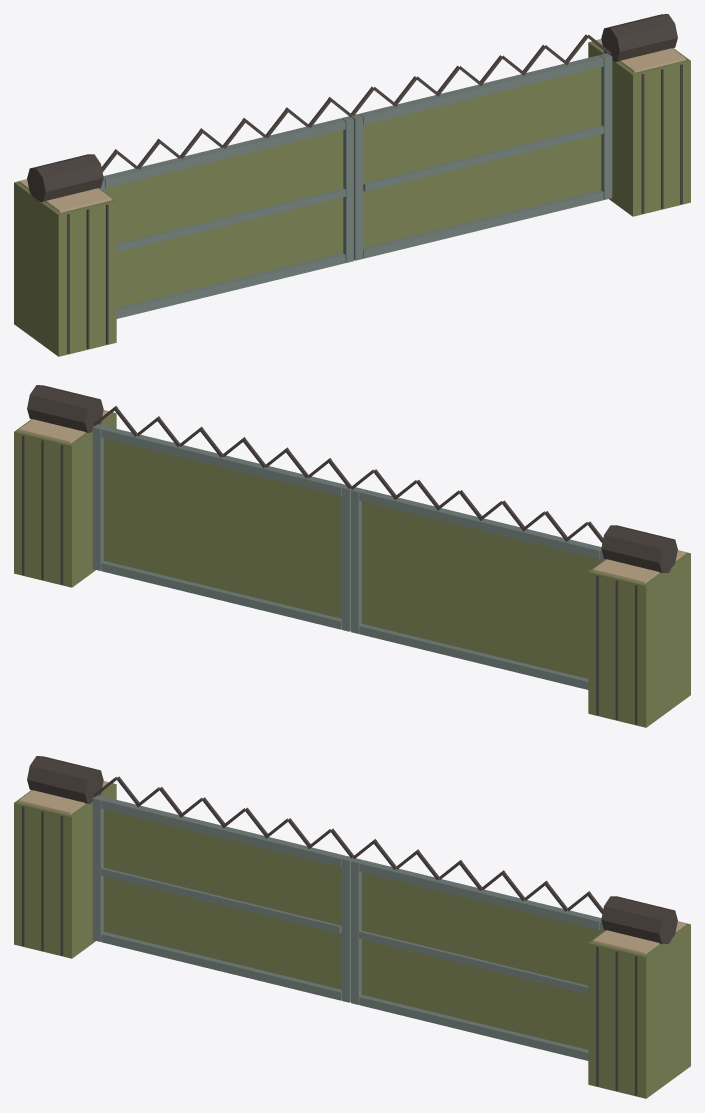
File: SM_PuertaVehiculos_v3_LOD0.fbx
3 renders of one model, top to bottom at view 1: azimuth 30°, elevation 25°; view 2: azimuth 150°, elevation 25°; view 3: azimuth 330°, elevation 25°, orthographic.
Parts seen in each view (by area): view 1: Hoja_E, Hoja_O, SM_bloques.puerta_vehiculos_v3_LOD0; view 2: Hoja_E, Hoja_O, SM_bloques.puerta_vehiculos_v3_LOD0; view 3: Hoja_O, Hoja_E, SM_bloques.puerta_vehiculos_v3_LOD0.
Boxes of the visible parts, x1,y1,x2,y2 form: Hoja_E: [351, 34, 612, 260]; Hoja_O: [99, 97, 353, 318]; SM_bloques.puerta_vehiculos_v3_LOD0: [14, 14, 690, 356]; Hoja_E: [92, 406, 351, 631]; Hoja_O: [350, 469, 605, 689]; SM_bloques.puerta_vehiculos_v3_LOD0: [14, 385, 690, 727]; Hoja_O: [92, 776, 353, 1002]; Hoja_E: [351, 839, 605, 1060]; SM_bloques.puerta_vehiculos_v3_LOD0: [14, 756, 690, 1098].
Size of the model in its own units: 9.8 by 2.55 by 1.24.
